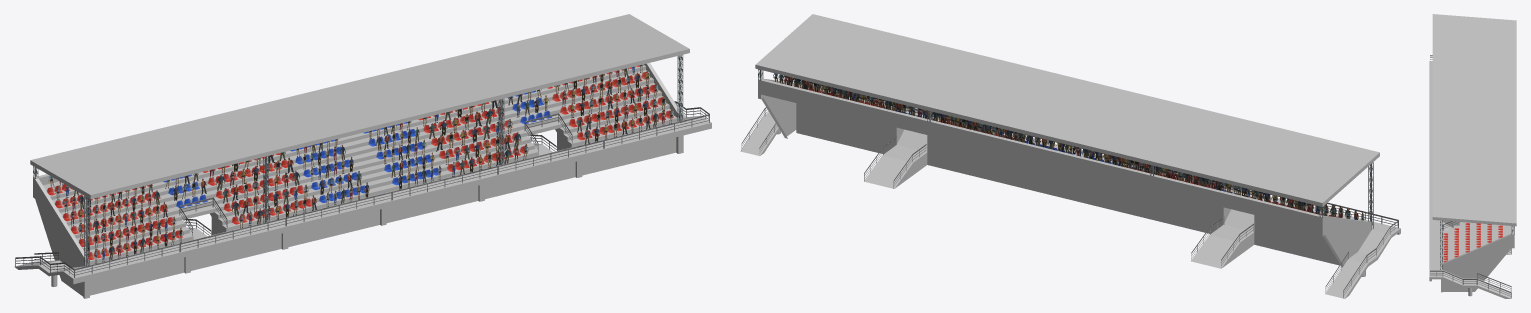
File: Stand-03.fbx
3 views of the same model, side by side, from view 1: azimuth 30°, elevation 25°; view 2: azimuth 150°, elevation 25°; view 3: azimuth 270°, elevation 25° (orthographic). The views are drawn at different scales.
Visible parts, largest first — view 1: Stand-03, Audience; view 2: Stand-03, Audience; view 3: Stand-03.
Boxes of the visible parts, box(x1,y1,x2,y2) form: Stand-03: box(14, 14, 711, 298); Audience: box(48, 64, 673, 263); Stand-03: box(740, 14, 1400, 298); Audience: box(773, 73, 1364, 220); Stand-03: box(1429, 14, 1516, 298).
Size of the model in its own units: 7478 by 1213 by 1273.
